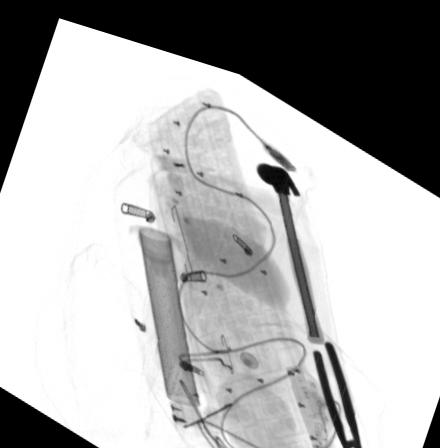Hammer: (254, 146, 323, 324)
Pliers: (312, 320, 368, 448)
